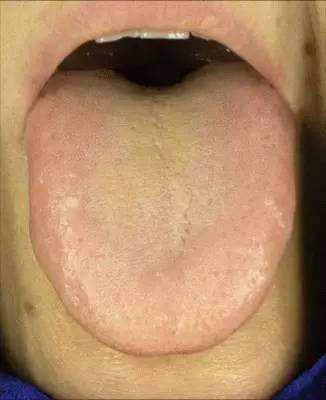huangtaishe: (27, 61, 296, 358)
shenquao: (89, 62, 231, 108)
